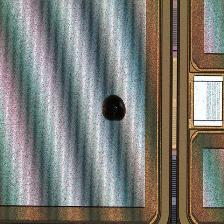PARTICLE: (99, 94, 131, 126)
